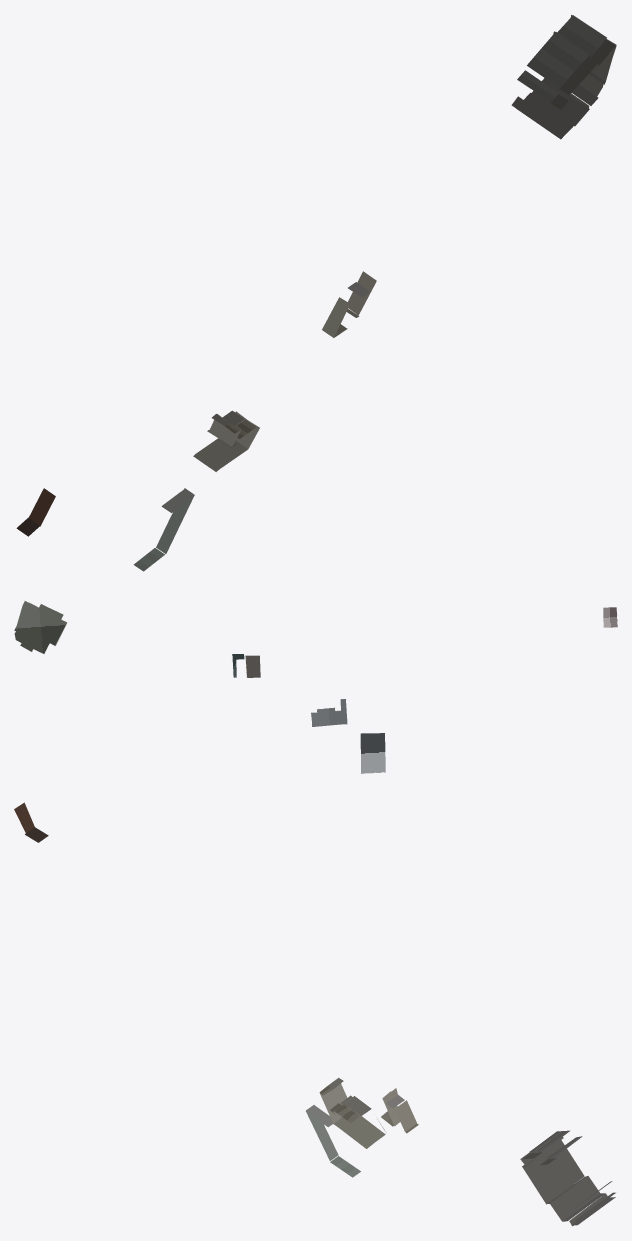
File: tile_LOD2_r0_c0.glb
3 renders of one model, top to bottom at view 1: azimuth 30°, elevation 25°; view 2: azimuth 150°, elevation 25°; view 3: azimuth 270°, elevation 25°, orthographic. The views are drawn at different scales.
Bounding box in the file's own units: 259 × 85.75 × 173.
Materials: 24 (13 with a texture image).
